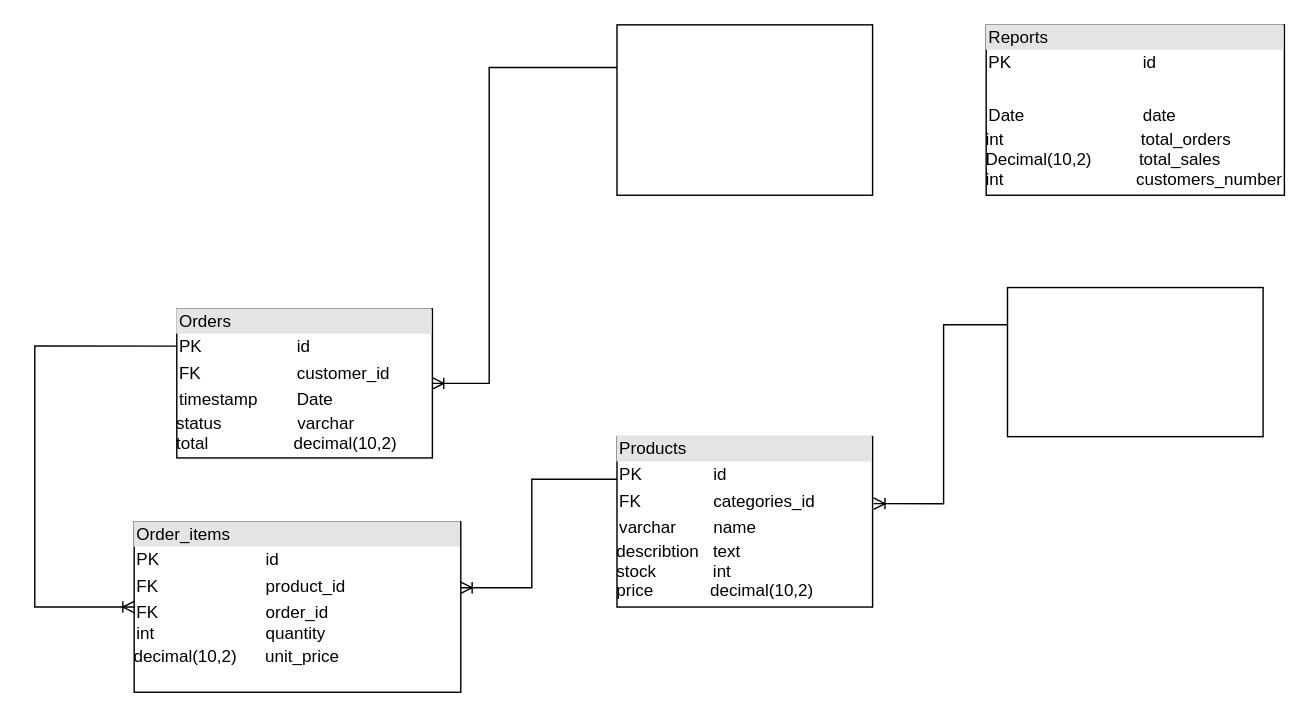
This 1309x717 diagram has some shape labels left out. Each missing label, with the centre of its shape:
"Categories PK id varchar name" belongs at point 1134,361.
"Customers PK id varchar name city varchar email varchar phone varchar" belongs at point 744,109.
